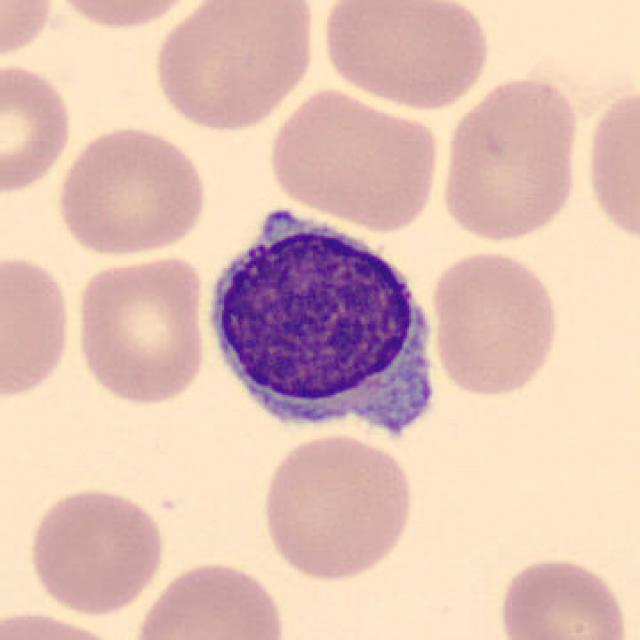Lymphocyte: (194, 198, 450, 453)
RBC: (265, 84, 444, 232), (436, 70, 583, 247), (256, 430, 418, 584), (149, 0, 320, 134), (71, 250, 212, 409), (52, 122, 212, 259), (426, 245, 564, 400), (316, 0, 494, 113), (23, 483, 169, 619), (128, 555, 290, 640), (494, 552, 633, 640), (0, 248, 75, 404), (0, 58, 76, 194), (582, 81, 638, 249), (44, 0, 208, 32), (1, 606, 131, 640), (0, 0, 57, 67)
